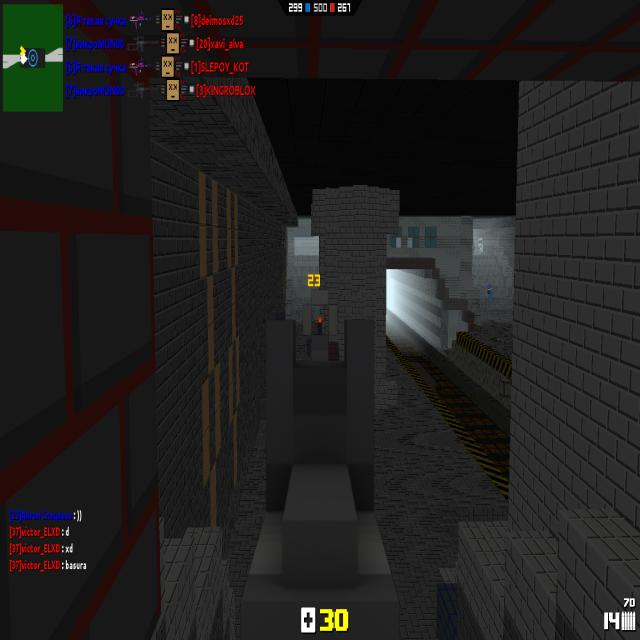enemy: (486, 283, 493, 304), (477, 237, 484, 254), (472, 237, 475, 255)
